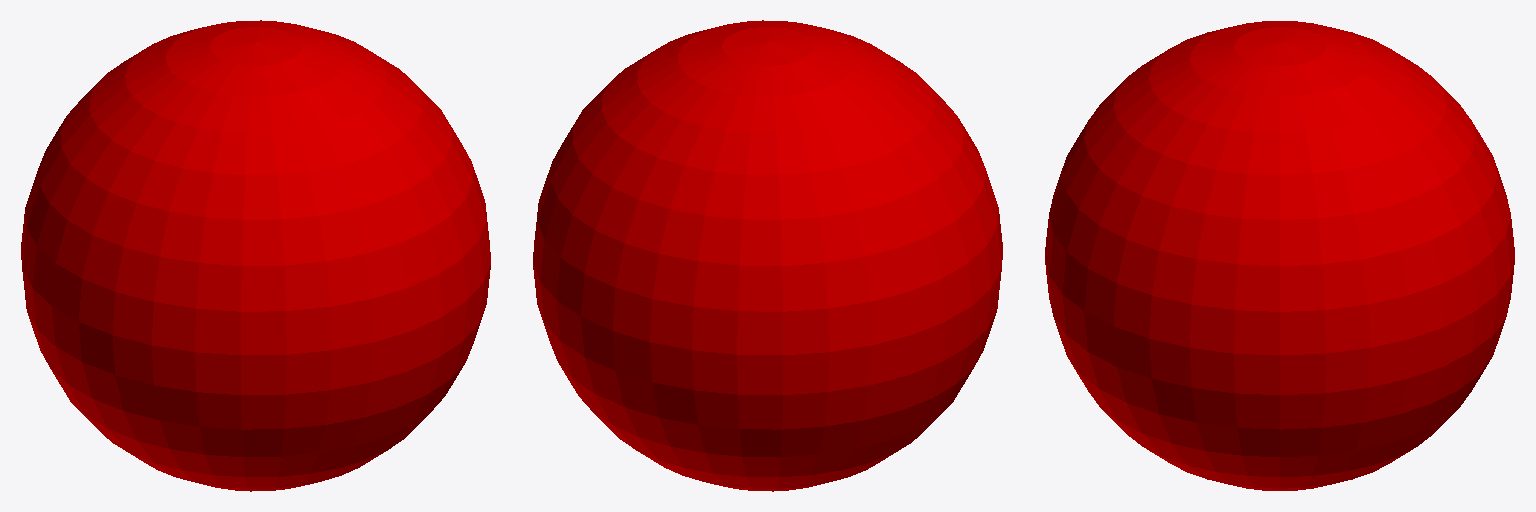
URDF robot description (point_robot):
<?xml version="1.0" ?>
<robot name="point_robot">

  <link name="link0">
    <!--inertial>
      <mass value="1"/>
      <inertia ixx="1" iyy="1" izz="1" ixy="0" ixz="0" iyz="0"/>
    </inertial-->
  </link>
  <link name="link1">
    <!--inertial>
      <mass value="1"/>
      <inertia ixx="1" iyy="1" izz="1" ixy="0" ixz="0" iyz="0"/>
    </inertial-->
  </link>
  <link name="link2">
    <!--inertial>
      <mass value="1"/>
      <inertia ixx="1" iyy="1" izz="1" ixy="0" ixz="0" iyz="0"/>
    </inertial-->
  </link>
  <link name="eef_link">
  	<visual>
  		<geometry>
  			<sphere radius="0.025"/>
  		</geometry>
  		<material name="red">
  			<color rgba="0.85 0 0 1"/>
  		</material>
  	</visual>
    <collision>
      <geometry>
        <sphere radius="0.025"/>
      </geometry>
    </collision>
    <!--inertial>
      <mass value="1"/>
      <inertia ixx="1" iyy="1" izz="1" ixy="0" ixz="0" iyz="0"/>
    </inertial-->
  </link>

  <joint name="jointX_joint" type="prismatic">
    <parent link="link0"/>
    <child link="link1"/>
    <axis xyz="1 0 0"/>
    <limit effort="1000.0" lower="-100" upper="100" velocity="0.2"/>
  </joint>
  <joint name="jointY_joint" type="prismatic">
    <parent link="link1"/>
    <child link="link2"/>
    <axis xyz="0 1 0"/>
    <limit effort="1000.0" lower="-100" upper="100" velocity="0.2"/>
  </joint>
  <joint name="jointZ_joint" type="prismatic">
    <axis xyz="0 0 1"/>
    <limit effort="1000.0" lower="-100" upper="100" velocity="0.2"/>
    <parent link="link2"/>
    <child link="eef_link"/>
  </joint>

</robot>

--- Render facts (derived) ---
3 views of the same robot in one strip: view 1: azimuth 30°, elevation 25°; view 2: azimuth 150°, elevation 25°; view 3: azimuth 270°, elevation 25° (orthographic).
Model point_robot with 4 links and 3 joints (3 prismatic), rooted at link0, posed every joint at zero.
Links seen in each view (by area): view 1: eef_link; view 2: eef_link; view 3: eef_link.
Boxes of the visible links, box(x1,y1,x2,y2) form: eef_link: box(21, 20, 490, 491); eef_link: box(533, 20, 1002, 491); eef_link: box(1045, 21, 1514, 490).
Bounding box of the posed robot: 0.05 × 0.05 × 0.05 m (x, y, z).
Geometry: primitives only (box / cylinder / sphere), no mesh files.